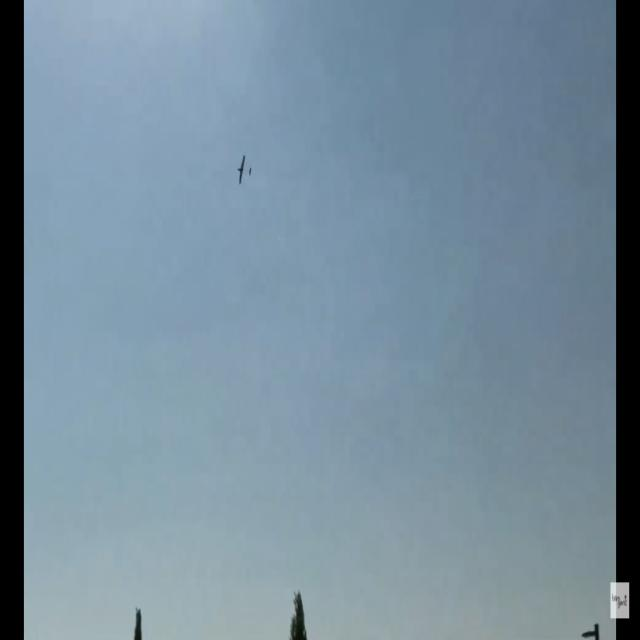iha: (236, 153, 252, 185)
